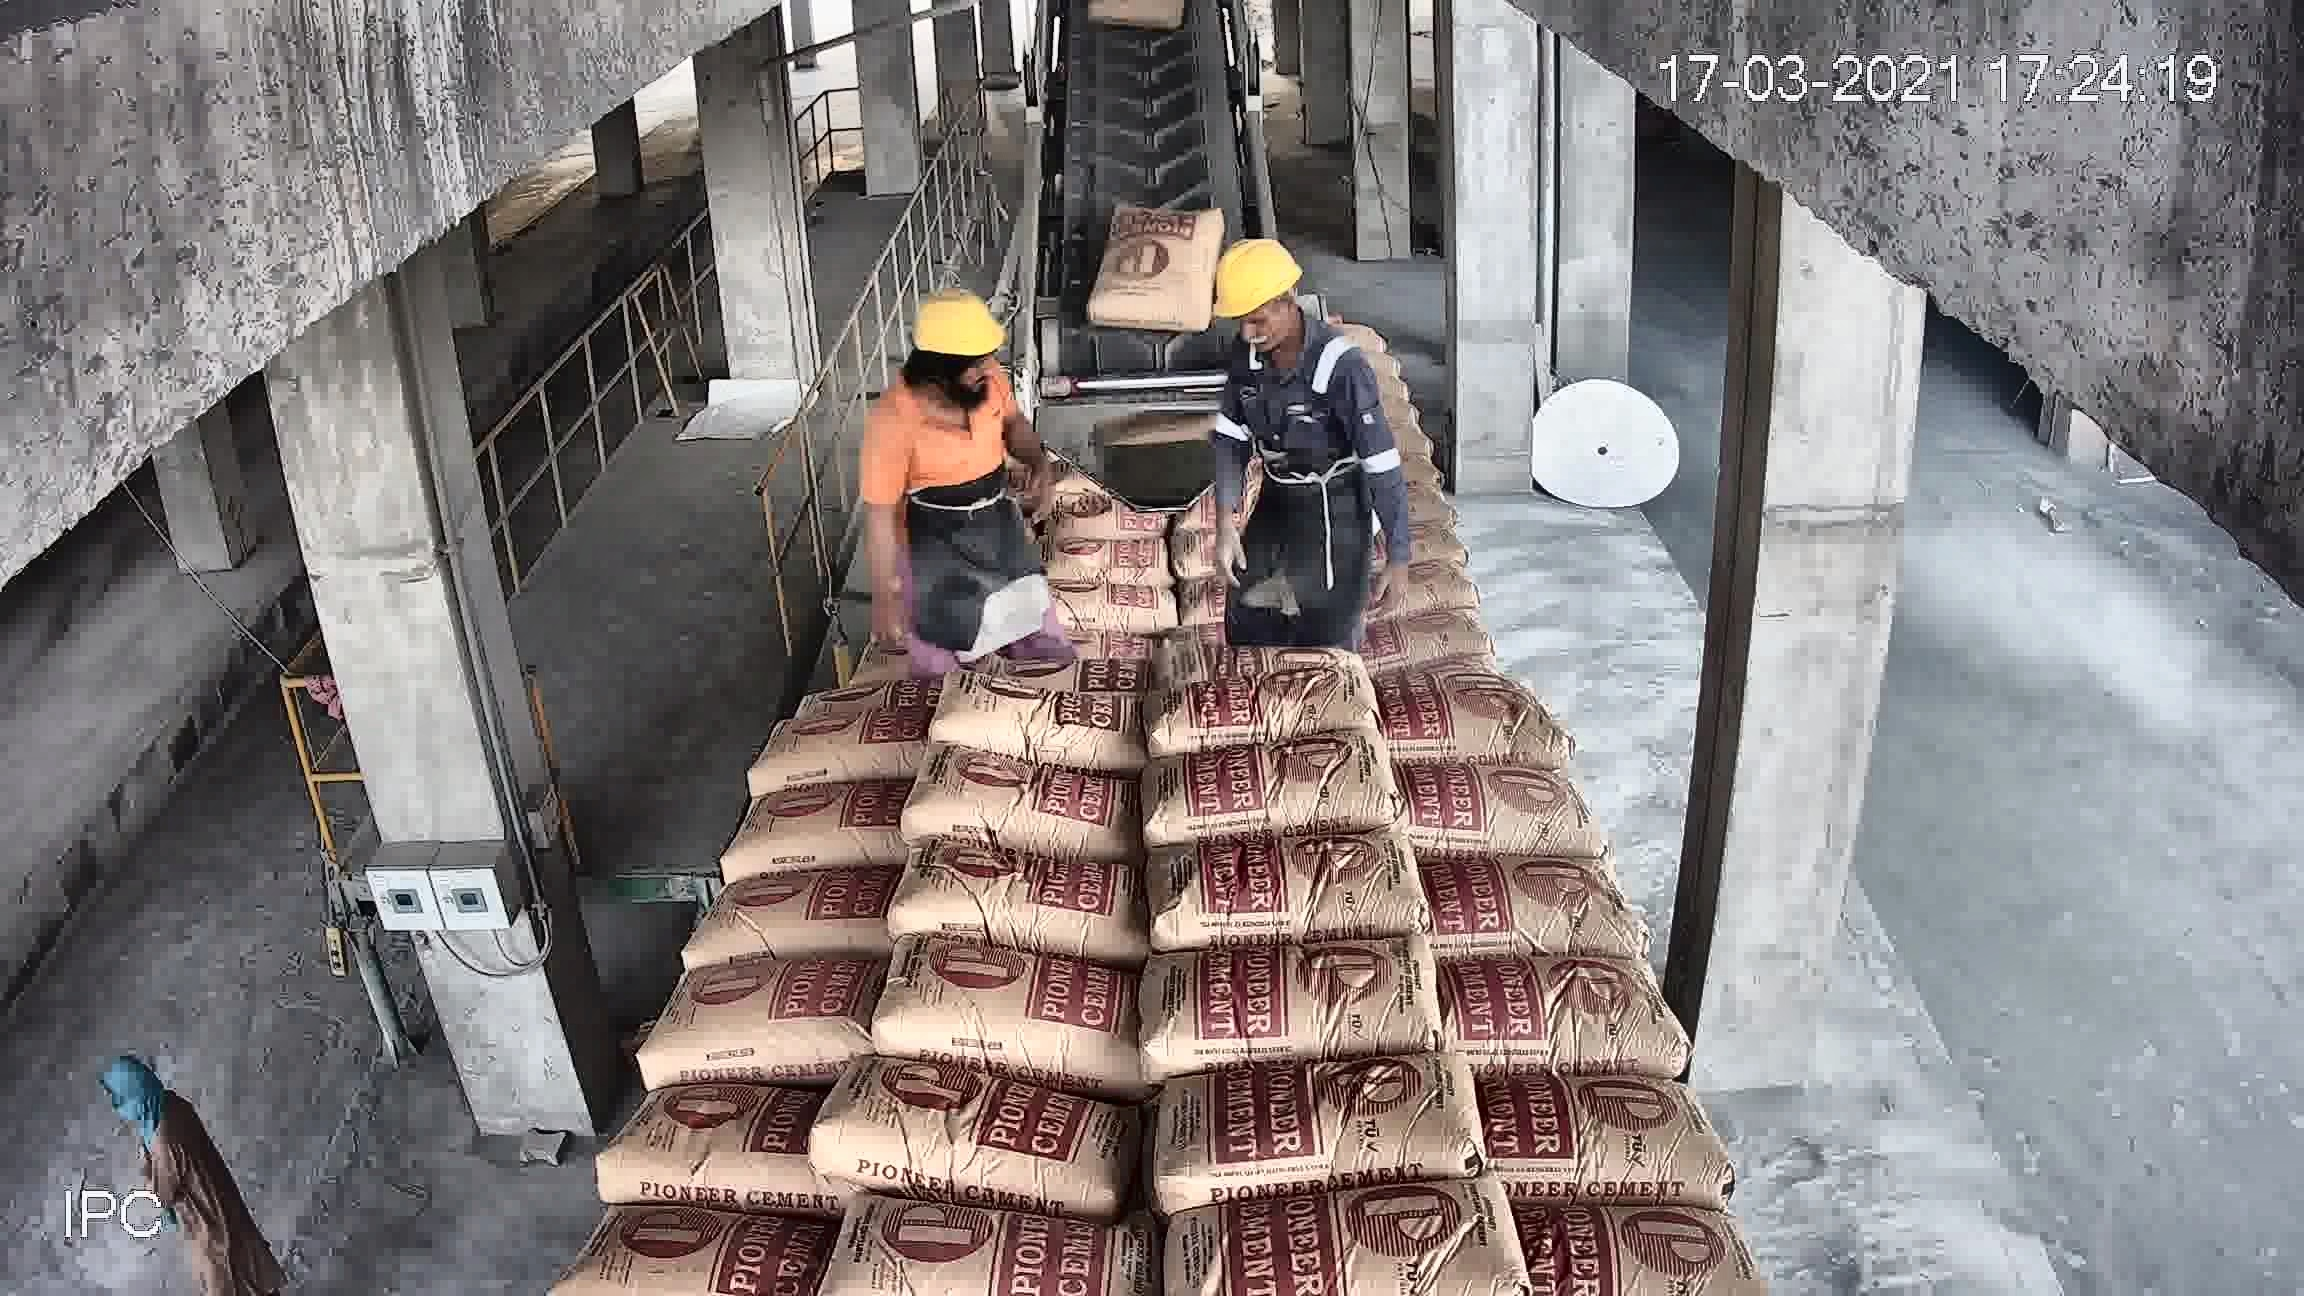bag: (1103, 157, 1214, 275), (1294, 377, 1448, 454)
bag_h: (1135, 1166, 1541, 1296), (1155, 1025, 1491, 1179), (820, 1082, 1184, 1214), (856, 942, 1161, 1084), (1476, 1071, 1726, 1222), (1185, 942, 1446, 1078), (1416, 953, 1679, 1084), (1139, 718, 1393, 850), (1381, 836, 1635, 964), (783, 1218, 1166, 1296), (889, 836, 1139, 954), (548, 1192, 831, 1296), (639, 965, 885, 1086), (1184, 818, 1407, 945), (913, 729, 1146, 845), (1370, 737, 1608, 847), (1139, 574, 1385, 673), (627, 1086, 826, 1203), (1522, 1198, 1755, 1291), (696, 864, 889, 967), (1370, 658, 1548, 767), (961, 589, 1161, 679), (794, 573, 995, 658), (956, 674, 1166, 755), (752, 774, 911, 880), (748, 704, 919, 802), (1166, 668, 1375, 744), (1166, 532, 1359, 611), (810, 525, 992, 598), (1334, 513, 1514, 585), (949, 560, 1157, 619), (775, 650, 964, 707), (991, 457, 1149, 524), (1321, 571, 1518, 623), (965, 524, 1165, 574), (1381, 628, 1554, 684), (1180, 491, 1347, 546), (1169, 446, 1313, 510), (1343, 472, 1492, 532), (843, 483, 987, 536), (1158, 377, 1277, 419), (1154, 411, 1245, 460), (927, 437, 1005, 479), (949, 405, 1021, 445), (1182, 359, 1263, 386)
belt: (1035, 14, 1244, 283)
